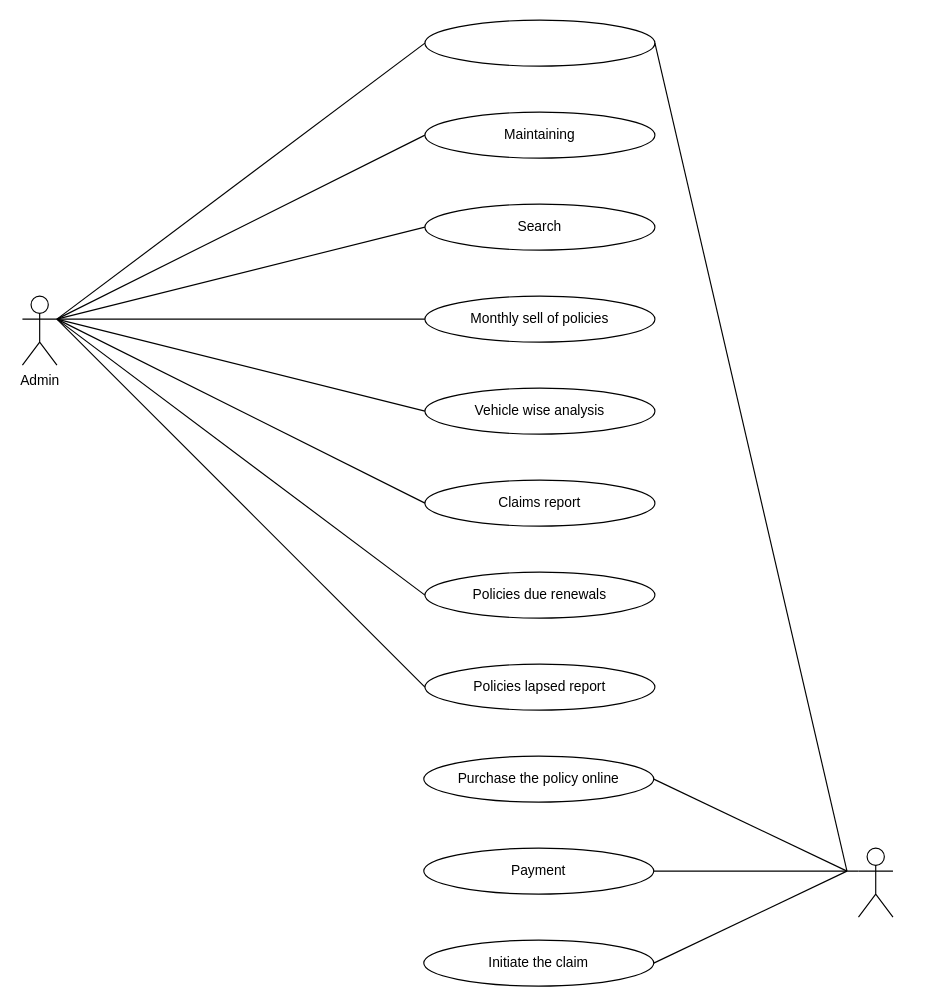
The diagram is 925 pixels wide and 1006 high, and some of its shapes have lost their labels. The shapes that lost their labels are listed below. From the top down, each one's centre as x and y in pixels, then its label:
At [539,42]: "Log in, Log out".
At [875,882]: "Customer".
